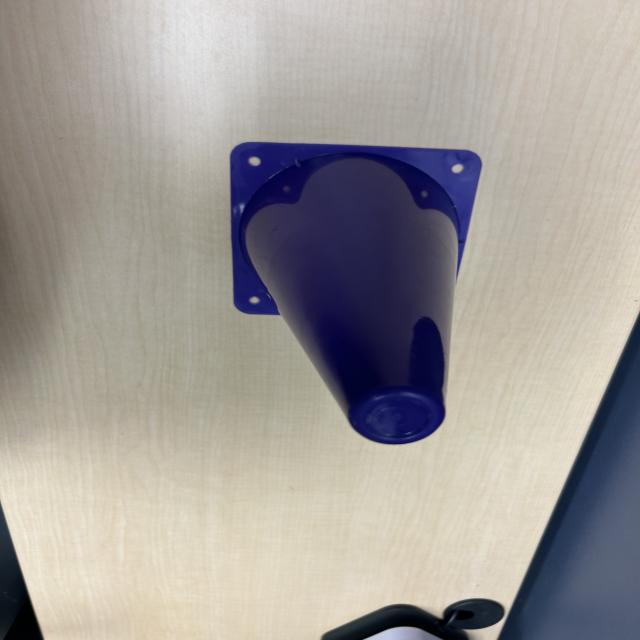purple cone: (219, 134, 490, 445)
